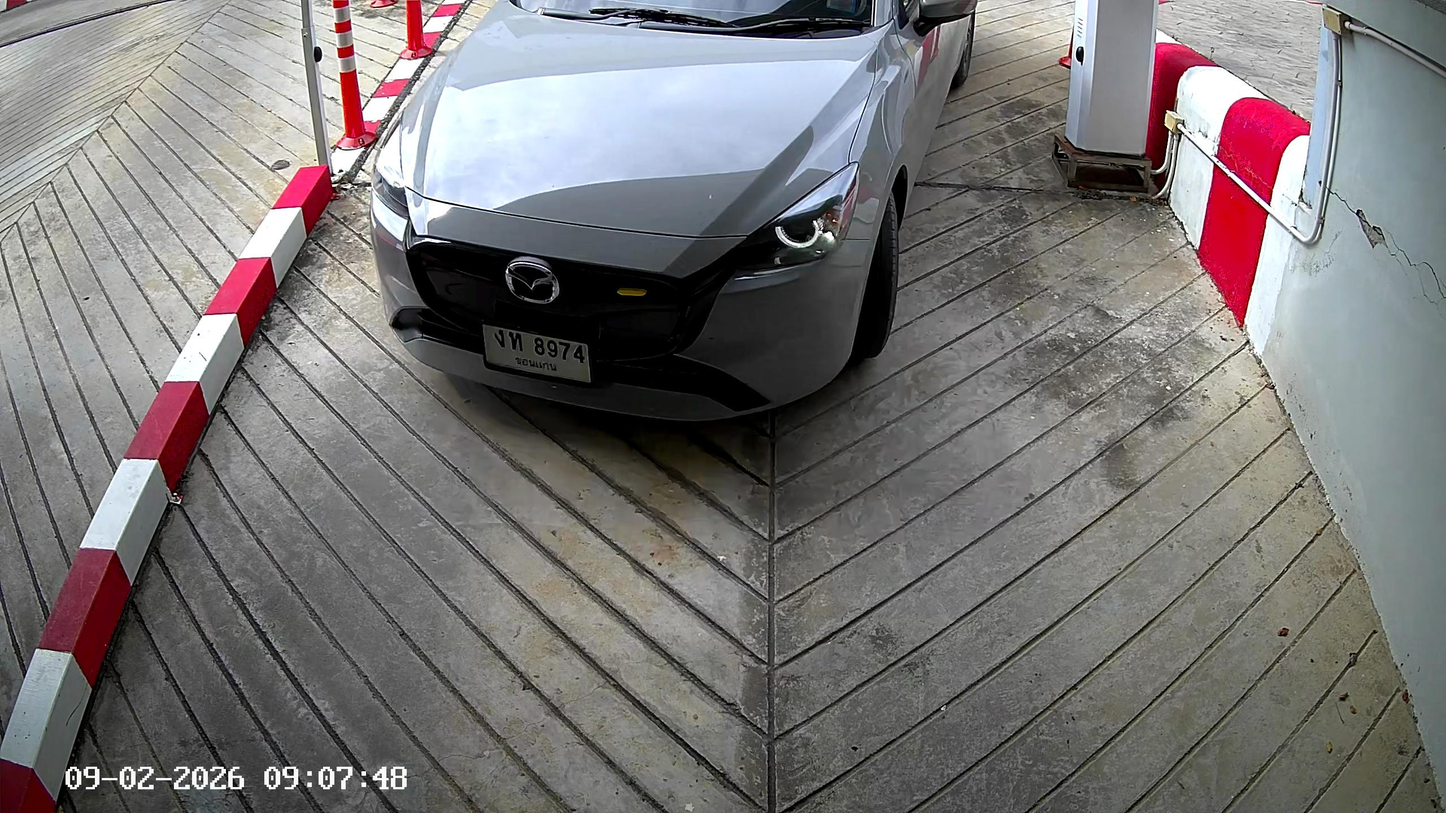car: (370, 4, 981, 423)
license-plate: (480, 317, 595, 388)
